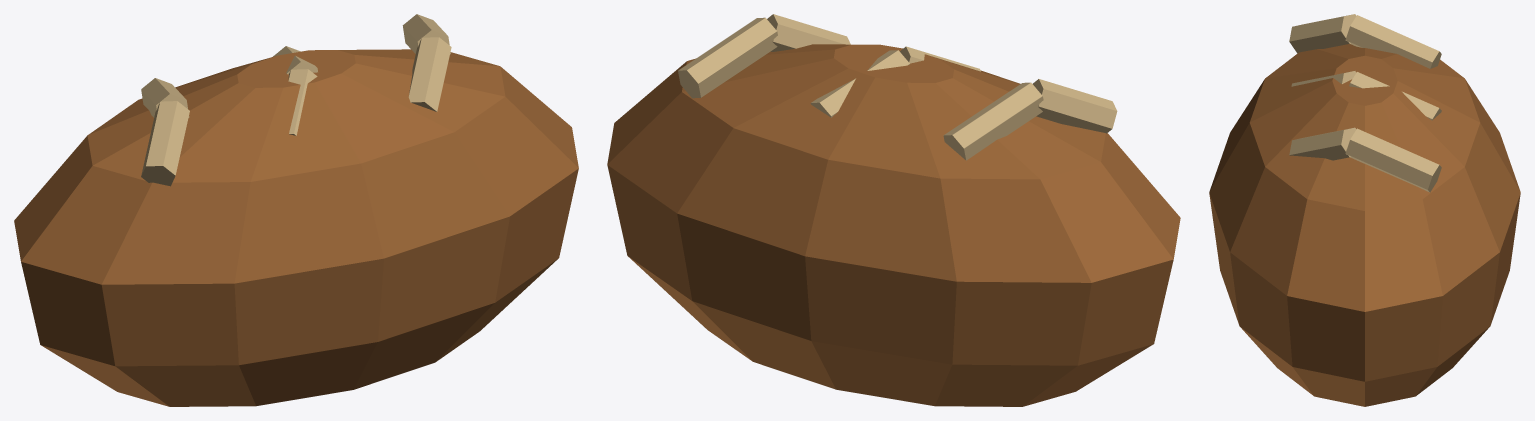
Rendered from round_loaf.glb.
3 views of the same model, side by side, from view 1: azimuth 30°, elevation 25°; view 2: azimuth 150°, elevation 25°; view 3: azimuth 270°, elevation 25° (orthographic). The views are drawn at different scales.
Parts seen in each view (by area): view 1: round_loaf; view 2: round_loaf; view 3: round_loaf.
Boxes of the visible parts, left/top/right/bottom form: round_loaf: left=14, top=14, right=578, bottom=406; round_loaf: left=607, top=14, right=1180, bottom=406; round_loaf: left=1209, top=14, right=1520, bottom=406.
Bounding box in the file's own units: 0.316 × 0.1776 × 0.174.
